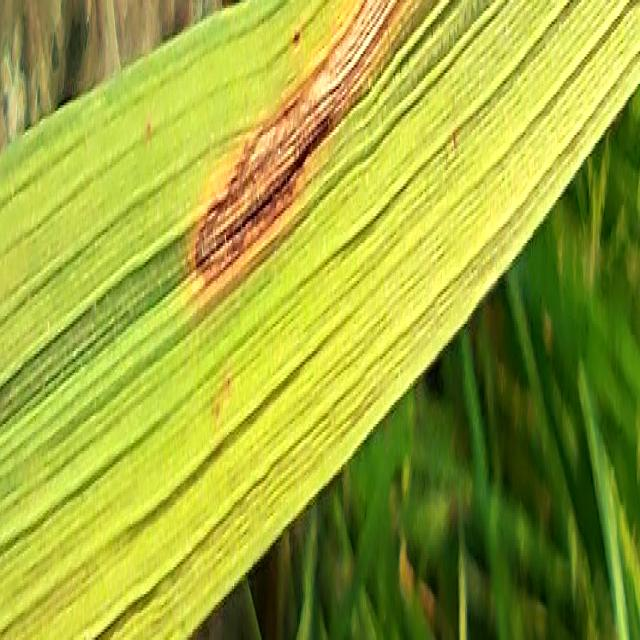LEAF BLAST: (194, 0, 395, 289), (395, 0, 405, 8)
